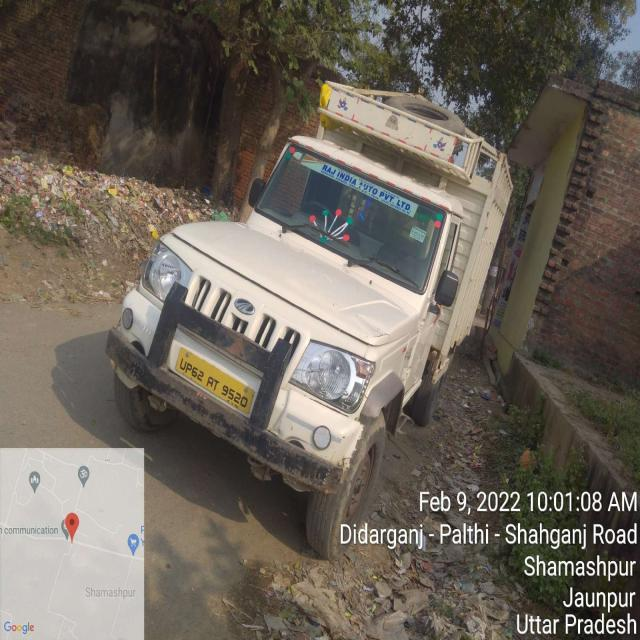light_vehicle: (104, 112, 488, 468)
